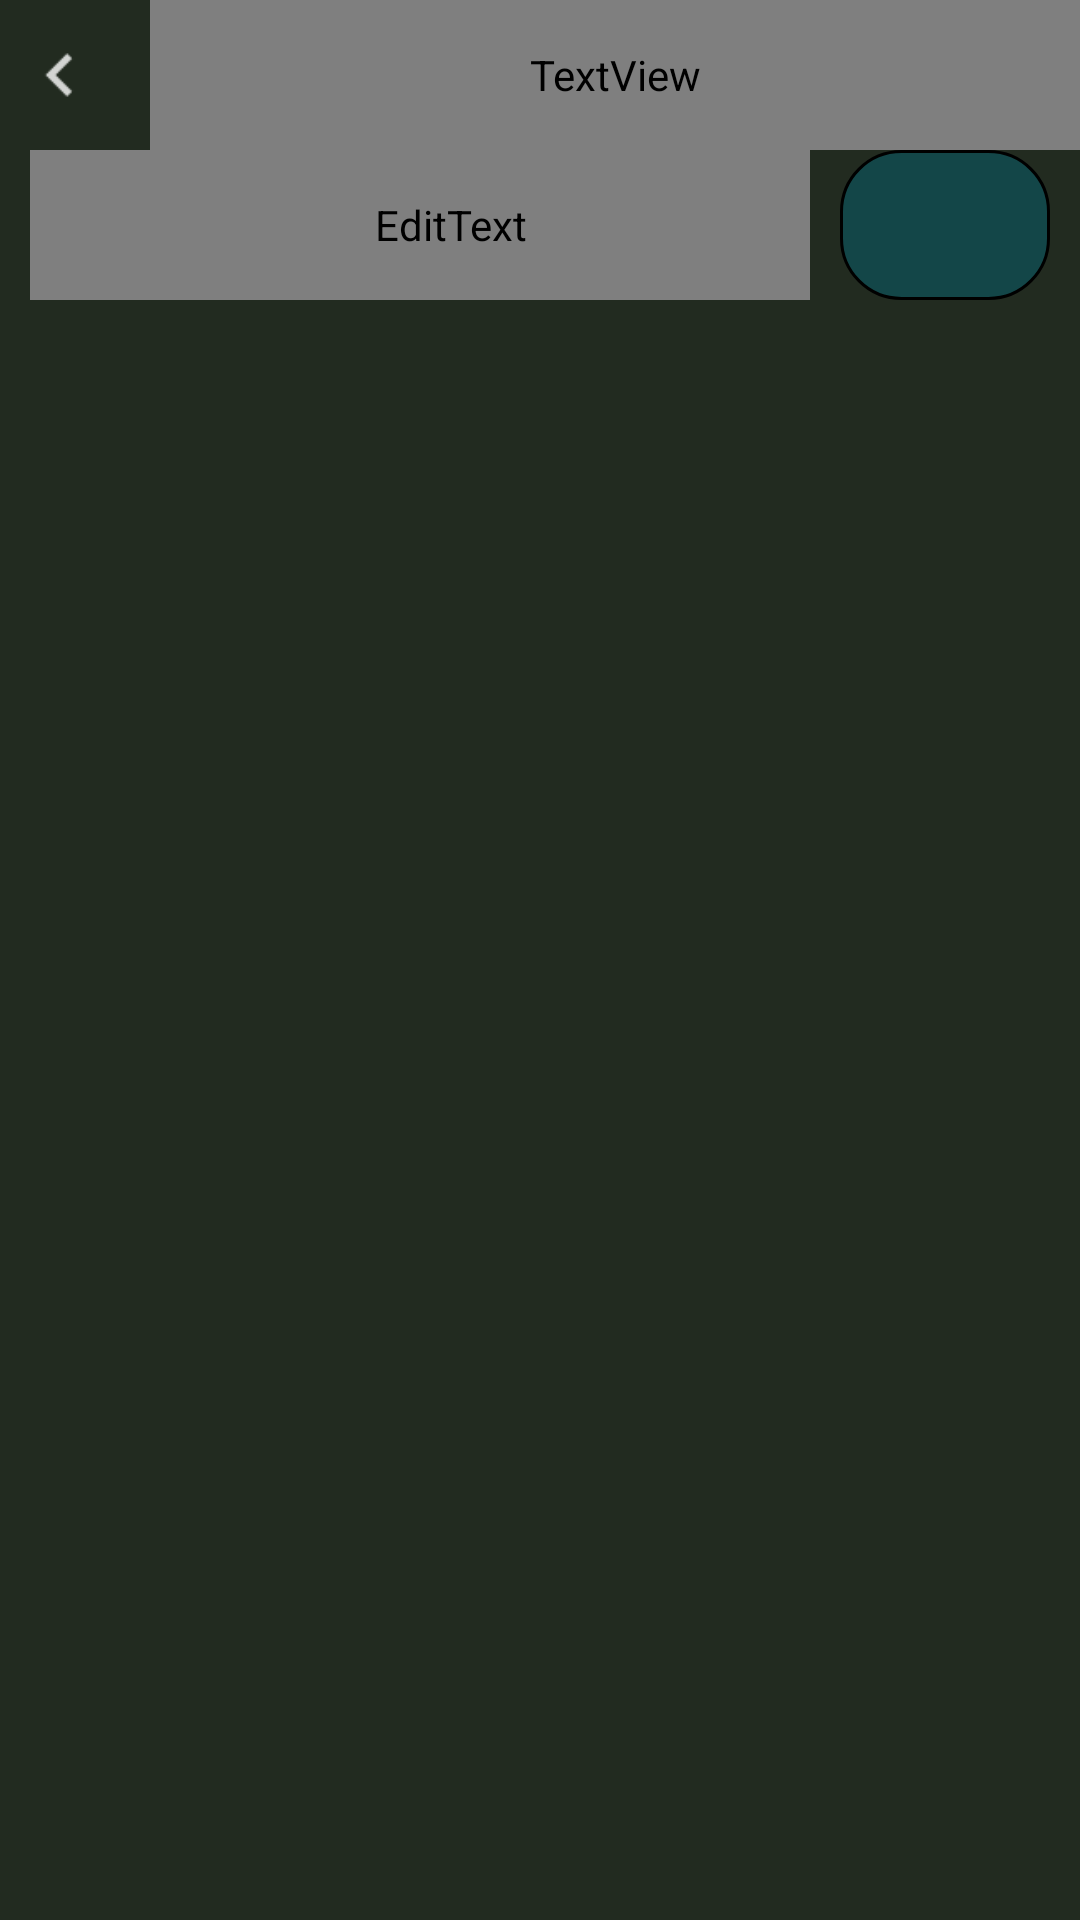

Point at icon controls on the screen. Image size 1080×1920, points as (x,y).
back: (58,75)
